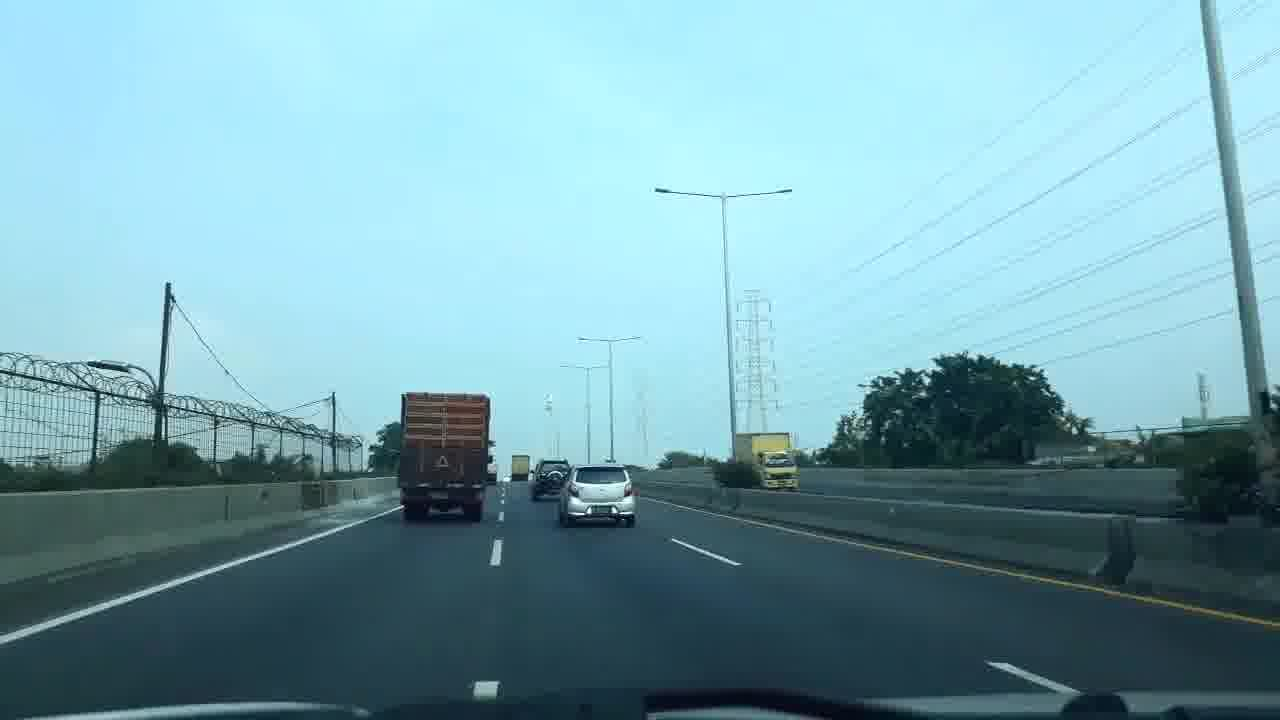plate_positive: (591, 506, 612, 514), (430, 492, 450, 500)
